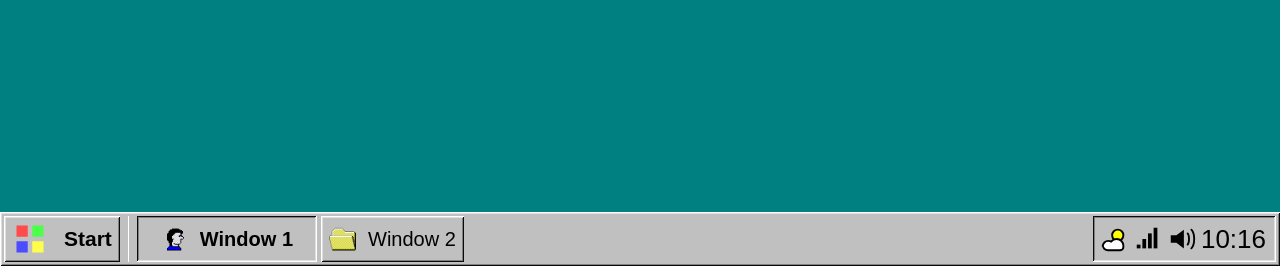
Taskbar › toggles volume slider
Check: the element with test id "taskbar" is shown, box [0,212,1279,265]
Click the button titled "Volume". click: x=1182, y=239
box: [1167,215,1197,263]
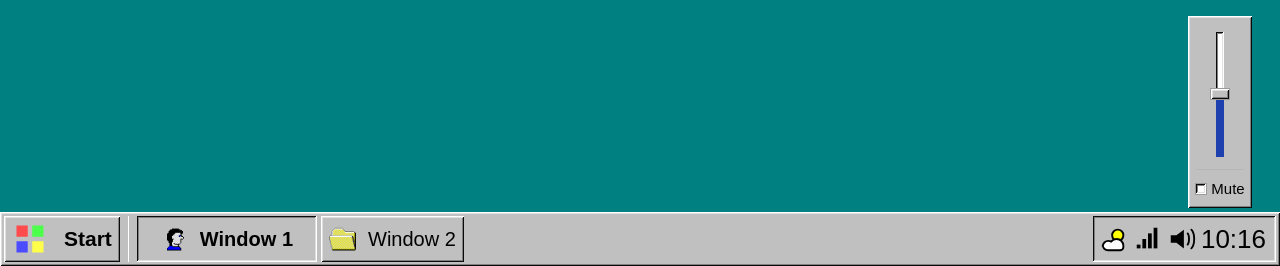
Check: the text "Mute" is shown, box [1211,178,1245,200]
Click the button titled "Volume". click: x=1182, y=239
box: [1167,215,1197,263]
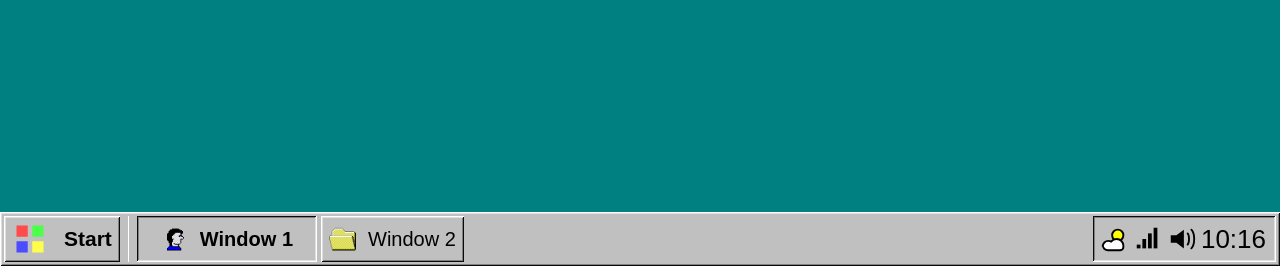
Check: the text "Mute" is gone
